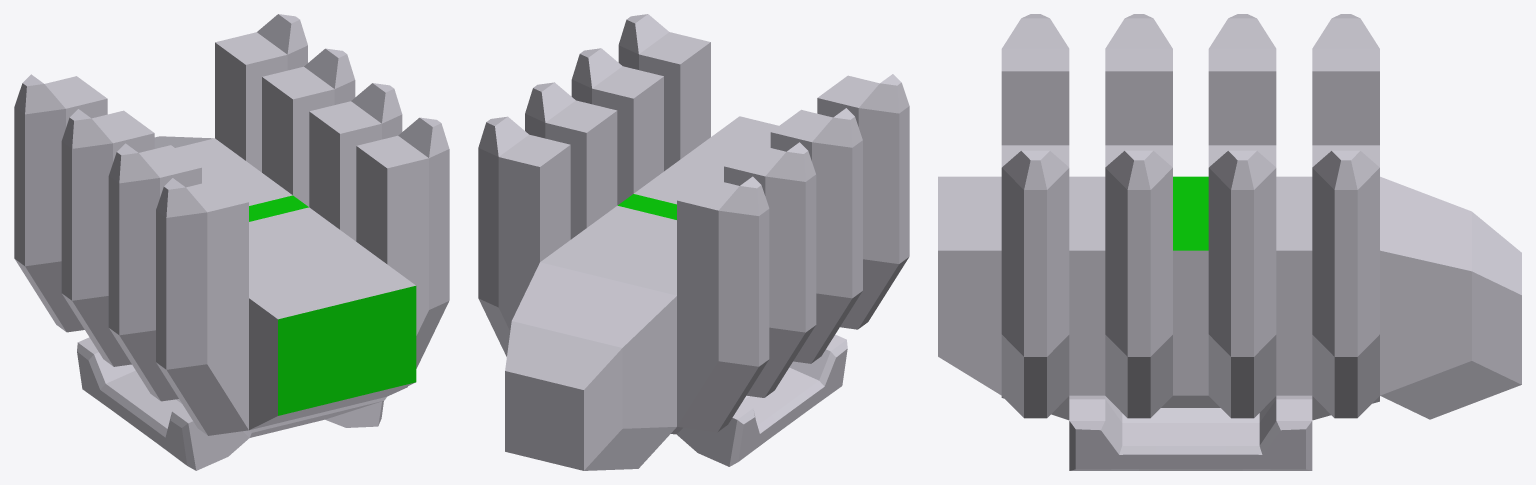
The model's file is block.finger.fbx.
The picture shows the model from 3 angles, left to right: view 1: azimuth 30°, elevation 25°; view 2: azimuth 150°, elevation 25°; view 3: azimuth 270°, elevation 25°; orthographic projection. The views are drawn at different scales.
Visible parts, largest first — view 1: block.finger; view 2: block.finger; view 3: block.finger.
Boxes of the visible parts, bbox=[...] form: block.finger: bbox=[14, 14, 449, 470]; block.finger: bbox=[478, 14, 909, 470]; block.finger: bbox=[938, 14, 1521, 470].
Size of the model in its own units: 2.03 by 2.1 by 3.3.
